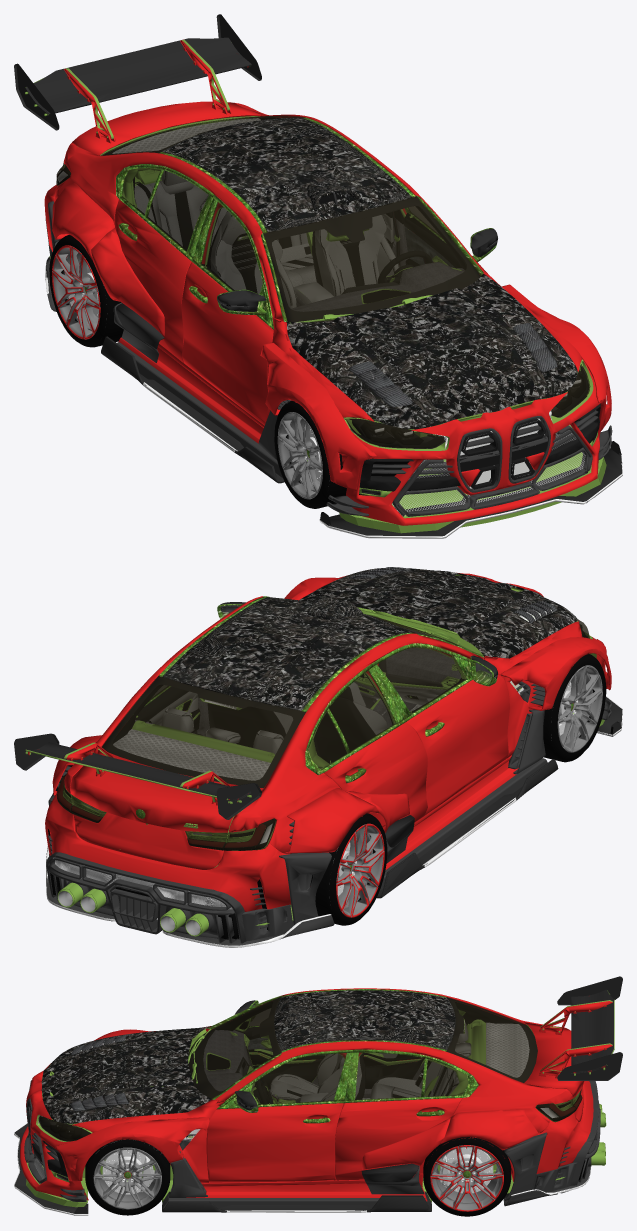
3 renders of one model, top to bottom at view 1: azimuth 30°, elevation 25°; view 2: azimuth 150°, elevation 25°; view 3: azimuth 270°, elevation 25°, orthographic. The views are drawn at different scales.
Parts seen in each view (by area): view 1: body, wheel_RR, wheel_FR; view 2: body, wheel_RR, wheel_FR; view 3: body, wheel_RL, wheel_FL.
Part boxes in pixels (x1=…): body: x1=14, y1=14, x2=622, y2=538; wheel_RR: x1=51, y1=235, x2=123, y2=347; wheel_FR: x1=277, y1=400, x2=346, y2=512; body: x1=14, y1=567, x2=622, y2=947; wheel_RR: x1=315, y1=813, x2=384, y2=925; wheel_FR: x1=541, y1=654, x2=602, y2=762; body: x1=14, y1=976, x2=622, y2=1216; wheel_RL: x1=423, y1=1137, x2=511, y2=1216; wheel_FL: x1=85, y1=1139, x2=170, y2=1215.
Size of what is drawn, in the model's own units: 2.04 by 1.35 by 4.79.
Materials: 38 (28 with a texture image).
